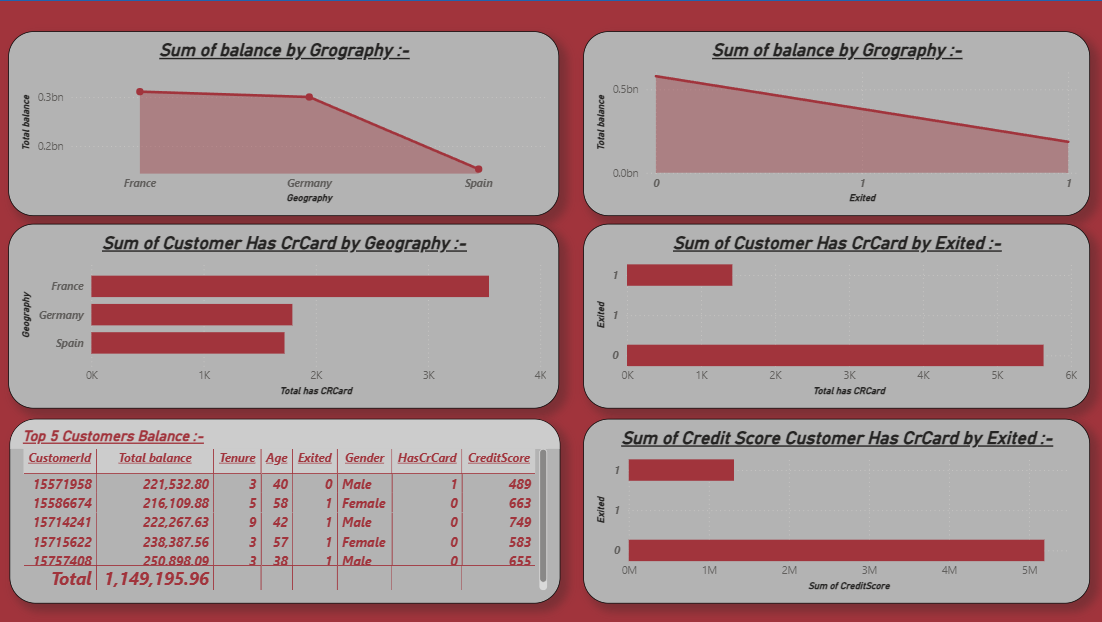

What the dashboard file says about the page in this screenshot:
{"tool":"powerbi","page":{"name":"Page 1","canvas":[1280,720],"ordinal":1},"visuals":[{"type":"shape","box":[9.6,0,1270.7,720.4],"z":0},{"type":"stackedAreaChart","title":"Sum of balance by Grography :-","fields":{"Category":["Churn_Modelling.Geography"],"Y":["Churn_Modelling.Total balance"]},"box":[24.7,35.7,629.8,211.3],"z":1000},{"type":"stackedAreaChart","title":"Sum of balance by Grography :-","fields":{"Y":["Churn_Modelling.Total balance"],"Category":["Churn_Modelling.Exited"]},"box":[682,35.7,579.1,211.3],"z":2000},{"type":"clusteredBarChart","title":"Sum of Customer Has CrCard by Exited :-","fields":{"Category":["Churn_Modelling.Exited"],"Y":["Churn_Modelling.Total has CRCard"]},"box":[682,255.2,579.1,211.3],"z":3000},{"type":"clusteredBarChart","title":"Sum of Customer Has CrCard by Geography :-","fields":{"Y":["Churn_Modelling.Total has CRCard"],"Category":["Churn_Modelling.Geography"]},"box":[24.7,255.2,629.8,211.3],"z":4000},{"type":"clusteredBarChart","title":"Sum of Credit Score Customer Has CrCard by Exited :-","fields":{"Category":["Churn_Modelling.Exited"],"Y":["Sum(Churn_Modelling.CreditScore)"]},"box":[682,478.9,579.1,211.3],"z":5000},{"type":"tableEx","title":"Top 5 Customers Balance :-","fields":{"Values":["Churn_Modelling.CustomerId","Churn_Modelling.Total balance","Churn_Modelling.Tenure","Churn_Modelling.Age","Churn_Modelling.Exited","Churn_Modelling.Gender","Churn_Modelling.HasCrCard","Churn_Modelling.CreditScore"]},"box":[26.1,478.9,629.8,211.3],"z":6000}]}

Visuals, with their boxes in screenshot pixels (x1, y1, x2, y2), scaled from the page's 1280x720 canvas onto the 1102x622 screenshot:
shape: {"x1": 8, "y1": 0, "x2": 1101, "y2": 621}
"Sum of balance by Grography :-" stackedAreaChart: {"x1": 21, "y1": 31, "x2": 563, "y2": 213}
"Sum of balance by Grography :-" stackedAreaChart: {"x1": 587, "y1": 31, "x2": 1086, "y2": 213}
"Sum of Customer Has CrCard by Exited :-" clusteredBarChart: {"x1": 587, "y1": 220, "x2": 1086, "y2": 403}
"Sum of Customer Has CrCard by Geography :-" clusteredBarChart: {"x1": 21, "y1": 220, "x2": 563, "y2": 403}
"Sum of Credit Score Customer Has CrCard by Exited :-" clusteredBarChart: {"x1": 587, "y1": 414, "x2": 1086, "y2": 596}
"Top 5 Customers Balance :-" tableEx: {"x1": 22, "y1": 414, "x2": 565, "y2": 596}
